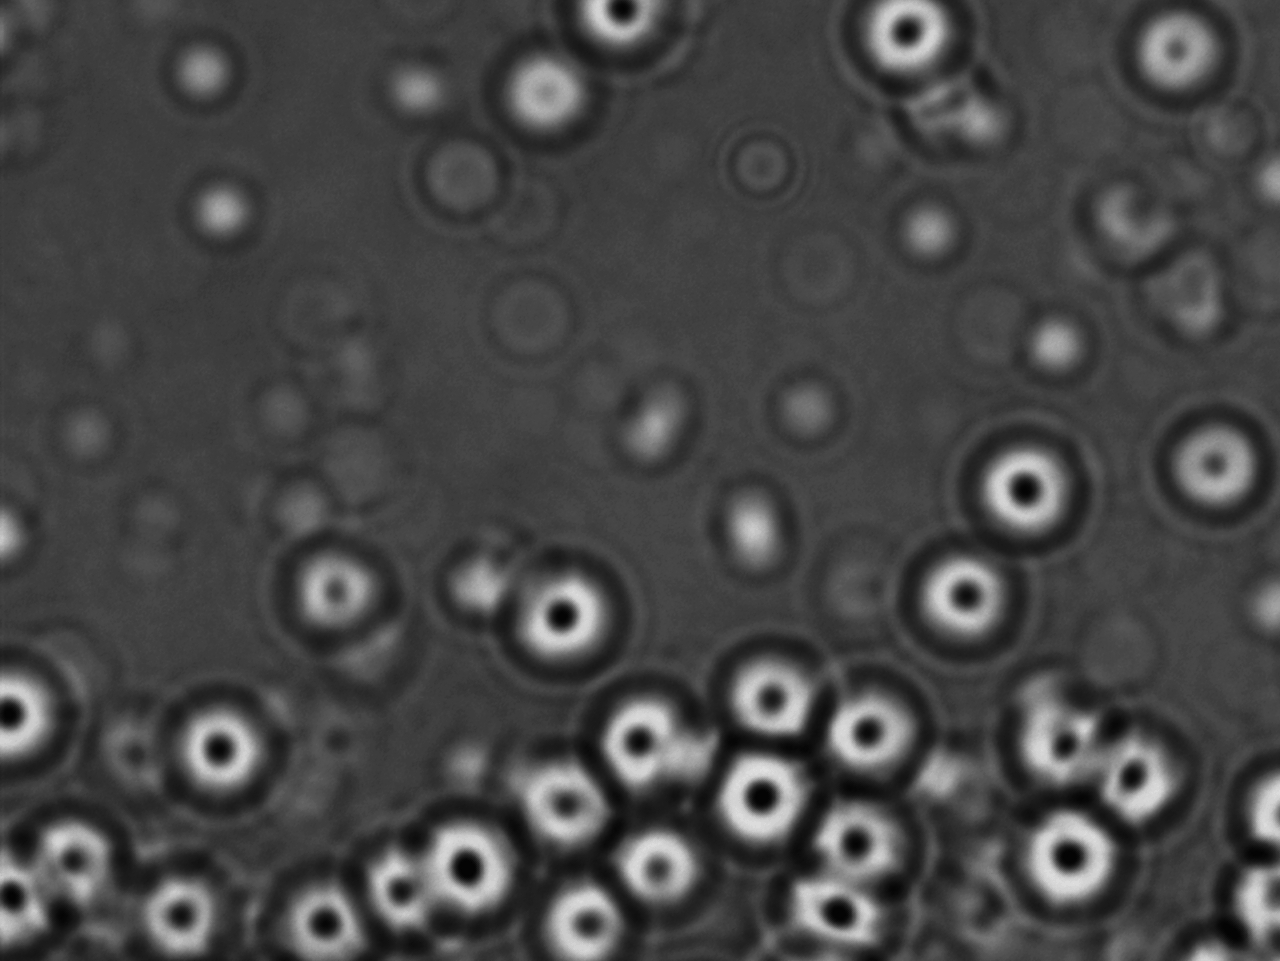depth:24: (489, 548, 637, 689), (955, 423, 1098, 561), (900, 528, 1038, 668), (700, 623, 845, 749), (1072, 708, 1199, 836), (585, 662, 706, 792), (168, 689, 297, 806), (817, 663, 935, 782), (355, 819, 469, 941), (705, 750, 821, 865), (998, 681, 1119, 788), (1010, 803, 1122, 917), (410, 810, 517, 913), (807, 797, 906, 902), (608, 815, 716, 912), (515, 750, 615, 852), (769, 857, 876, 952), (268, 867, 371, 961), (531, 873, 638, 961), (136, 875, 229, 961)
